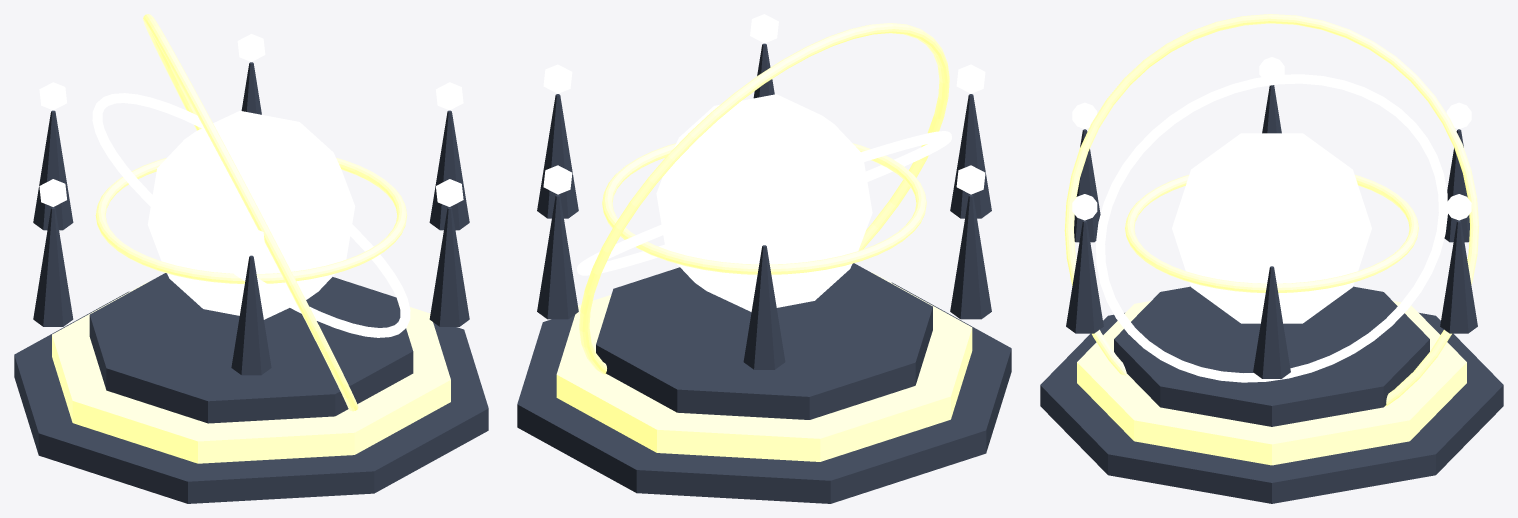
File: gpu-blender-v13.glb
3 views of the same model, side by side, from view 1: azimuth 30°, elevation 25°; view 2: azimuth 150°, elevation 25°; view 3: azimuth 270°, elevation 25° (orthographic). The views are drawn at different scales.
Parts seen in each view (by area): view 1: Cylinder.002, SovereignCore_zothos-lite, Cylinder, Cylinder.001, Torus.001, Torus.002, Torus, Cone.004, Cone.003, Cone.005, Cone, Cone.002 (+7 smaller); view 2: Cylinder.002, SovereignCore_zothos-lite, Cylinder, Cylinder.001, Torus.002, Torus.001, Torus, Cone.001, Cone.003, Cone.002, Cone, Cone.004 (+6 smaller); view 3: SovereignCore_zothos-lite, Cylinder.002, Cylinder, Cylinder.001, Torus.001, Torus.002, Torus, Cone.001, Cone.005, Cone, Cone.004, Cone.002 (+4 smaller).
Part boxes in pixels (box(x1,y1,x2,y2)): Cylinder.002: box(89, 273, 413, 423); SovereignCore_zothos-lite: box(147, 110, 355, 319); Cylinder: box(14, 291, 488, 503); Cylinder.001: box(52, 281, 450, 463); Torus.001: box(92, 93, 410, 337); Torus.002: box(143, 14, 358, 411); Torus: box(95, 158, 407, 283); Cone.004: box(231, 255, 271, 375); Cone.003: box(33, 207, 73, 326); Cone.005: box(429, 207, 469, 326); Cone: box(429, 110, 469, 230); Cone.002: box(33, 110, 73, 230); Cylinder.002: box(596, 263, 932, 419); SovereignCore_zothos-lite: box(656, 94, 872, 311); Cylinder: box(517, 282, 1011, 503); Cylinder.001: box(556, 272, 972, 461); Torus.002: box(579, 23, 949, 374); Torus.001: box(577, 131, 951, 275); Torus: box(602, 143, 926, 274); Cone.001: box(537, 195, 578, 319); Cone.003: box(950, 195, 991, 319); Cone.002: box(743, 245, 785, 369); Cone: box(537, 94, 578, 218); Cone.004: box(950, 94, 991, 218); SovereignCore_zothos-lite: box(1172, 133, 1371, 323); Cylinder.002: box(1114, 286, 1429, 426); Cylinder: box(1040, 313, 1503, 503); Cylinder.001: box(1077, 301, 1466, 465); Torus.001: box(1096, 74, 1447, 382); Torus.002: box(1064, 14, 1479, 406); Torus: box(1125, 175, 1418, 292); Cone.001: box(1440, 220, 1477, 333); Cone.005: box(1066, 220, 1103, 333); Cone: box(1253, 266, 1290, 378); Cone.004: box(1074, 129, 1100, 242); Cone.002: box(1444, 129, 1469, 242).
Size of the model in its own units: 4.41 by 3.72 by 4.4.
